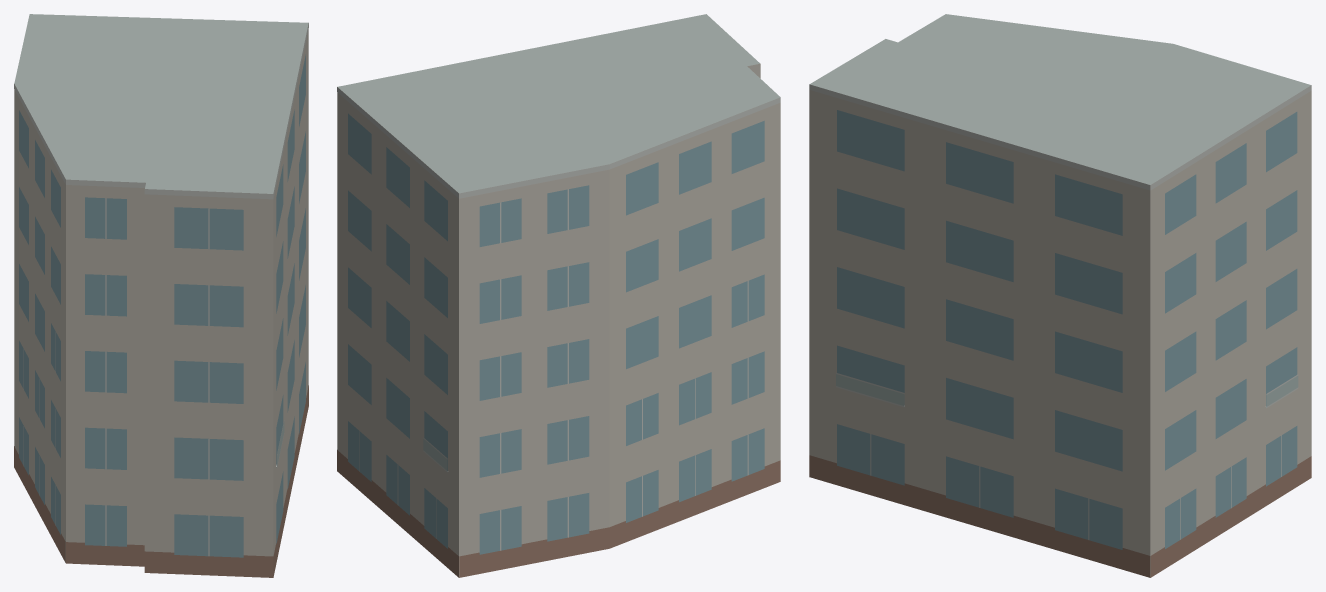
The model's file is survey-upis-32722469.glb.
3 views of the same model, side by side, from view 1: azimuth 30°, elevation 25°; view 2: azimuth 150°, elevation 25°; view 3: azimuth 270°, elevation 25° (orthographic). The views are drawn at different scales.
Visible parts, largest first — view 1: survey-upis-32722469.tmp; view 2: survey-upis-32722469.tmp; view 3: survey-upis-32722469.tmp.
Part boxes in pixels (x1=…): survey-upis-32722469.tmp: x1=14, y1=14, x2=308, y2=577; survey-upis-32722469.tmp: x1=337, y1=14, x2=780, y2=577; survey-upis-32722469.tmp: x1=809, y1=14, x2=1311, y2=577.
Size of the model in its own units: 16.5 by 17.65 by 20.46.
